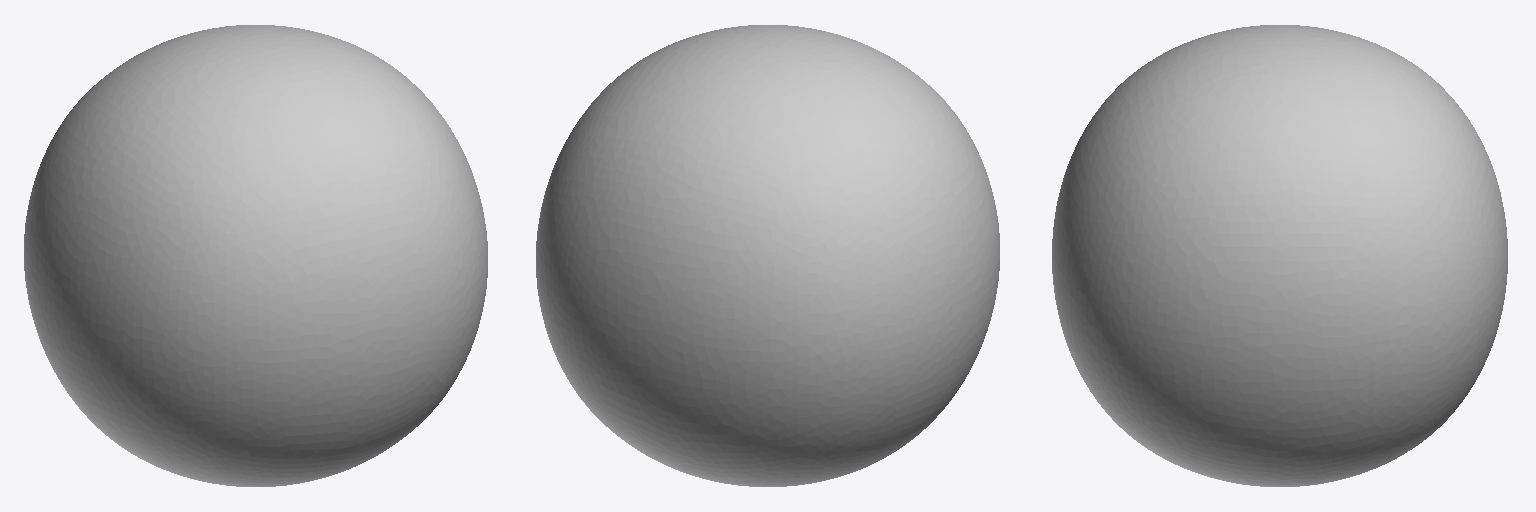
Rendered from sphereHigh.obj.
3 views of the same model, side by side, from view 1: azimuth 30°, elevation 25°; view 2: azimuth 150°, elevation 25°; view 3: azimuth 270°, elevation 25° (orthographic).
Visible parts, largest first — view 1: Cube; view 2: Cube; view 3: Cube.
Part boxes in pixels (x1,y1,x2,y2): Cube: (24,25,487,486); Cube: (536,25,999,486); Cube: (1052,25,1507,486).
Bounding box in the file's own units: 1.66 × 1.66 × 1.66.